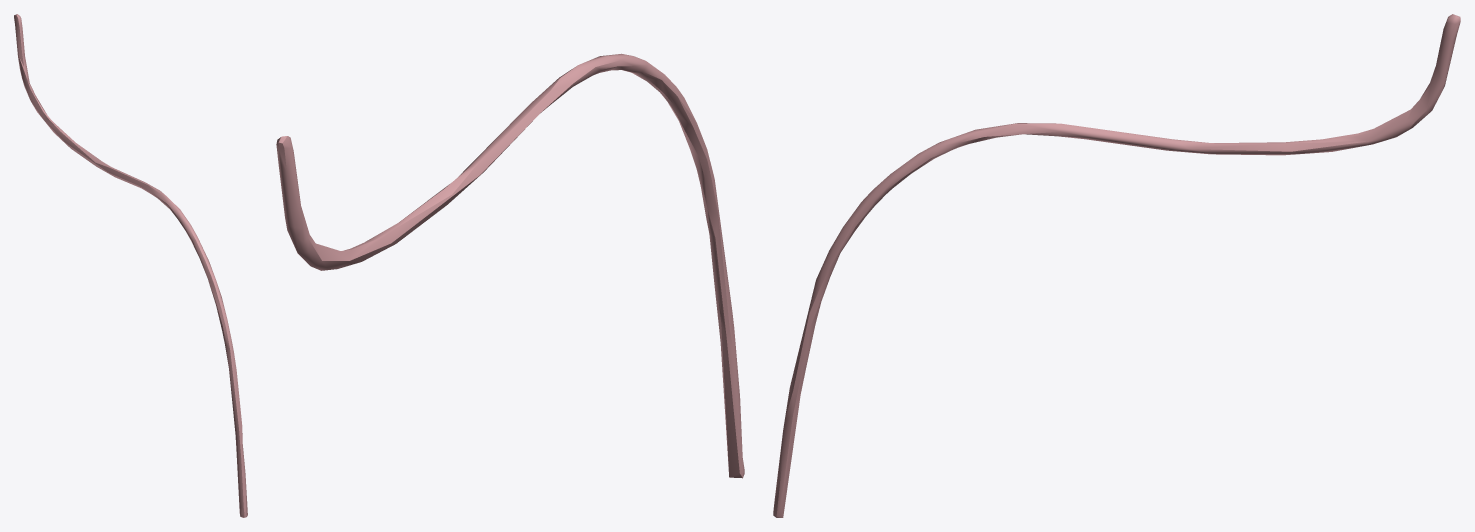
The model's file is fma19667_fj3148.glb.
The picture shows the model from 3 angles, left to right: view 1: azimuth 30°, elevation 25°; view 2: azimuth 150°, elevation 25°; view 3: azimuth 270°, elevation 25°; orthographic projection. The views are drawn at different scales.
Visible parts, largest first — view 1: FMA19667_FJ3148; view 2: FMA19667_FJ3148; view 3: FMA19667_FJ3148.
Boxes of the visible parts, x1,y1,x2,y2 form: FMA19667_FJ3148: [14, 14, 247, 517]; FMA19667_FJ3148: [276, 53, 744, 478]; FMA19667_FJ3148: [773, 14, 1460, 517].
Bounding box in the file's own units: 0.00192 × 0.0839 × 0.1042.
